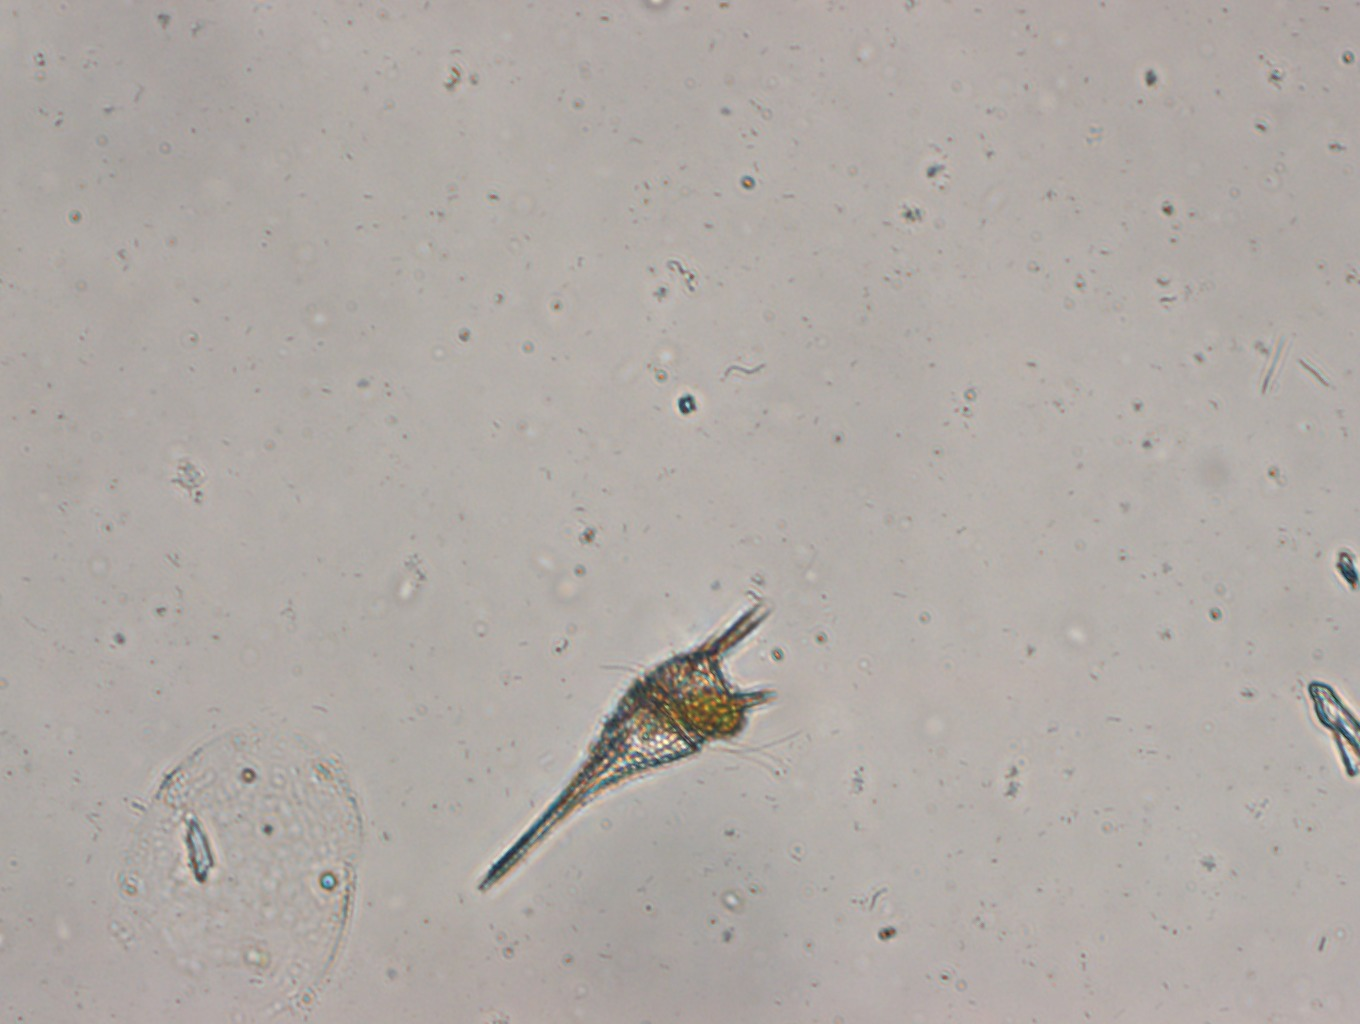ceratium furca: (468, 593, 787, 900)
